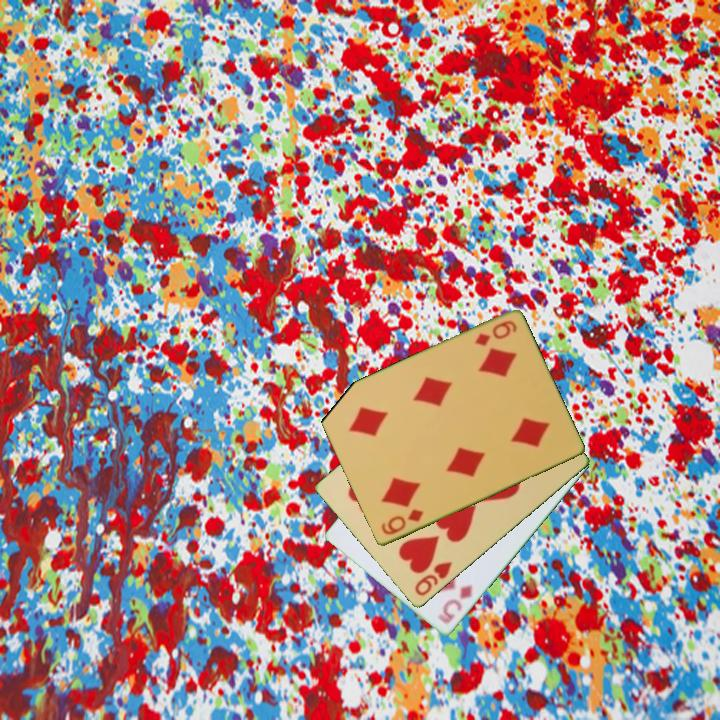5d: (434, 582, 476, 628)
6d: (377, 505, 426, 538), (471, 317, 520, 349)
9h: (411, 558, 455, 599)
